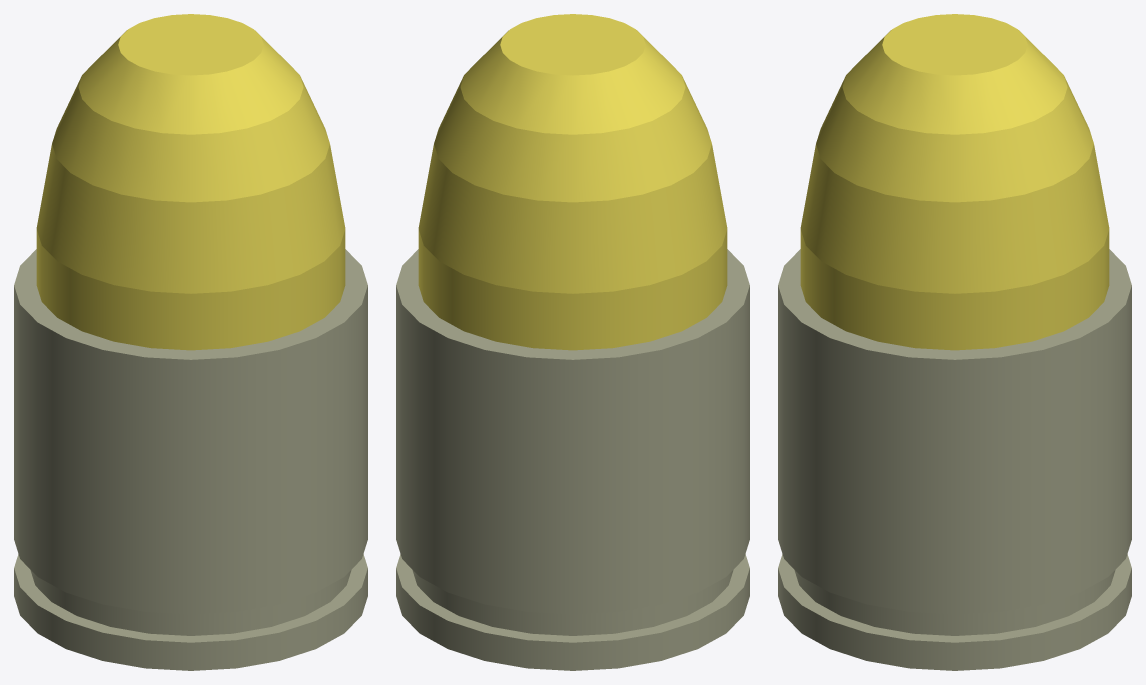
The model's file is ammo_machinegunLauncher.glb.
3 renders of one model, left to right at view 1: azimuth 30°, elevation 25°; view 2: azimuth 150°, elevation 25°; view 3: azimuth 270°, elevation 25°, orthographic.
Visible parts, largest first — view 1: Mesh2 Group3 Group1 Model, Mesh1 Group2 Group1 Model; view 2: Mesh2 Group3 Group1 Model, Mesh1 Group2 Group1 Model; view 3: Mesh2 Group3 Group1 Model, Mesh1 Group2 Group1 Model.
Boxes of the visible parts, bbox=[...] form: Mesh2 Group3 Group1 Model: bbox=[14, 249, 367, 670]; Mesh1 Group2 Group1 Model: bbox=[36, 14, 345, 350]; Mesh2 Group3 Group1 Model: bbox=[396, 249, 749, 670]; Mesh1 Group2 Group1 Model: bbox=[418, 14, 727, 350]; Mesh2 Group3 Group1 Model: bbox=[778, 249, 1131, 670]; Mesh1 Group2 Group1 Model: bbox=[800, 14, 1109, 350].
Bounding box in the file's own units: 0.0068 × 0.0117 × 0.0068.
